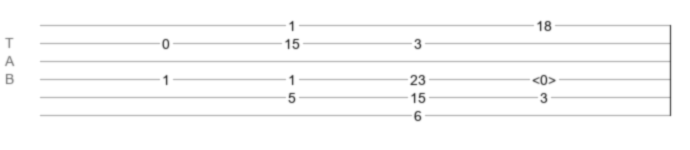0: (162, 36, 170, 46)
1: (162, 72, 170, 82), (288, 18, 296, 28), (288, 72, 296, 82)
15: (284, 36, 300, 46), (410, 90, 426, 100)
18: (536, 18, 552, 28)
23: (410, 72, 426, 82)
3: (414, 36, 422, 46), (540, 90, 548, 100)
5: (288, 90, 296, 100)
6: (414, 108, 422, 118)
harmonic: (532, 72, 556, 82)
